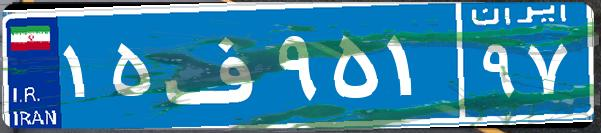1: (385, 28, 445, 110), (57, 26, 110, 107)
5: (330, 28, 385, 110), (110, 28, 158, 105)
7: (525, 38, 570, 115)
9: (273, 28, 330, 110), (475, 38, 525, 113)
ف: (158, 15, 273, 115)
